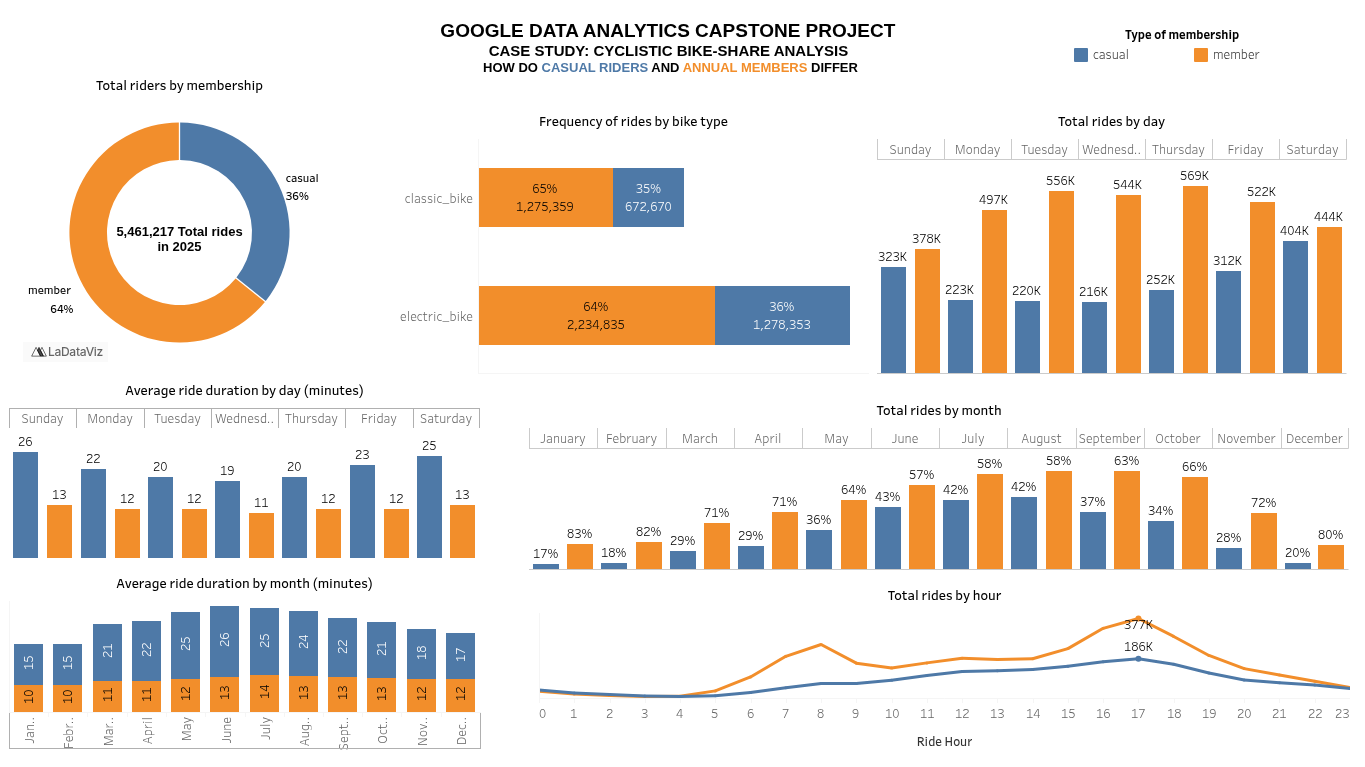

The dashboard page shown, as its layout file describes it:
{"tool":"tableau","page":{"name":"Dashboard 1","canvas":[1366,768],"ordinal":0},"visuals":[{"type":"text","box":[331,7,679,80]},{"type":"blank","box":[8,8,1350,752]},{"type":"legend","title":"total rides by hour","param":"[federated.0rdan211y7gvys1b7b1oj0xsglr5].[none:member_casual (riding_hours.csv):","box":[1071,26,222,59]},{"type":"worksheet","title":"Percentage of casual riders vs annual members","mark":"VizExtension","box":[19,65,321,301]},{"type":"worksheet","title":"Frequency of rides by bike type","mark":"Automatic","rows":["rideable_type"],"cols":["total_rides (bike_type_pref.csv)"],"box":[394,101,479,277]},{"type":"worksheet","title":"total rides by day","mark":"Automatic","rows":["total_rides (rides_day_of_week.csv)"],"cols":["day_of_the_week","member_casual (rides_day_of_week.csv)"],"box":[873,101,478,277]},{"type":"text","box":[110,192,139,93]},{"type":"worksheet","title":"Average ride duration by day (in minutes)","mark":"Automatic","rows":["avg_ride_length"],"cols":["day_of_the_week (average_ride_duration_day.csv)","member_casual (average_ride_duration_day.csv)"],"box":[5,370,480,193]},{"type":"worksheet","title":"total rides by month","mark":"Bar","rows":["total_rides (monthly_ride_trends.csv)"],"cols":["ride_month","member_casual (monthly_ride_trends.csv)"],"box":[525,390,829,184]},{"type":"worksheet","title":"Average ride duration by month (in minutes)","mark":"Automatic","rows":["average_ride_duration_minutes"],"cols":["ride_month (average_ride_duration_month( in minutes) .csv)"],"box":[5,563,480,192]},{"type":"worksheet","title":"total rides by hour","mark":"Automatic","rows":["total_rides (riding_hours.csv)"],"cols":["ride_hour"],"box":[535,575,819,184]}]}

Visuals, with their boxes in screenshot pixels (x1, y1, x2, y2), scaled from the page's 1366x768 canvas onto the 1365x767 screenshot:
text: BBox(331, 7, 1009, 87)
blank: BBox(8, 8, 1357, 759)
"total rides by hour" legend: BBox(1070, 26, 1292, 85)
"Percentage of casual riders vs annual members" worksheet (VizExtension marks): BBox(19, 65, 340, 366)
"Frequency of rides by bike type" worksheet: BBox(394, 101, 872, 378)
"total rides by day" worksheet: BBox(872, 101, 1350, 378)
text: BBox(110, 192, 249, 285)
"Average ride duration by day (in minutes)" worksheet: BBox(5, 370, 485, 562)
"total rides by month" worksheet (Bar marks): BBox(525, 389, 1353, 573)
"Average ride duration by month (in minutes)" worksheet: BBox(5, 562, 485, 754)
"total rides by hour" worksheet: BBox(535, 574, 1353, 758)
